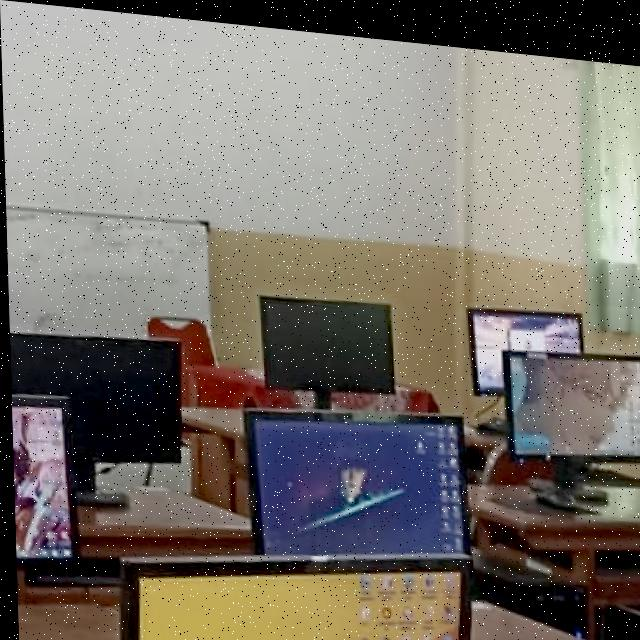offscreen: (8, 334, 178, 459), (261, 291, 390, 385)
onscreen: (118, 545, 467, 640), (243, 404, 465, 548), (503, 340, 640, 444), (468, 298, 581, 384), (9, 406, 70, 558)
